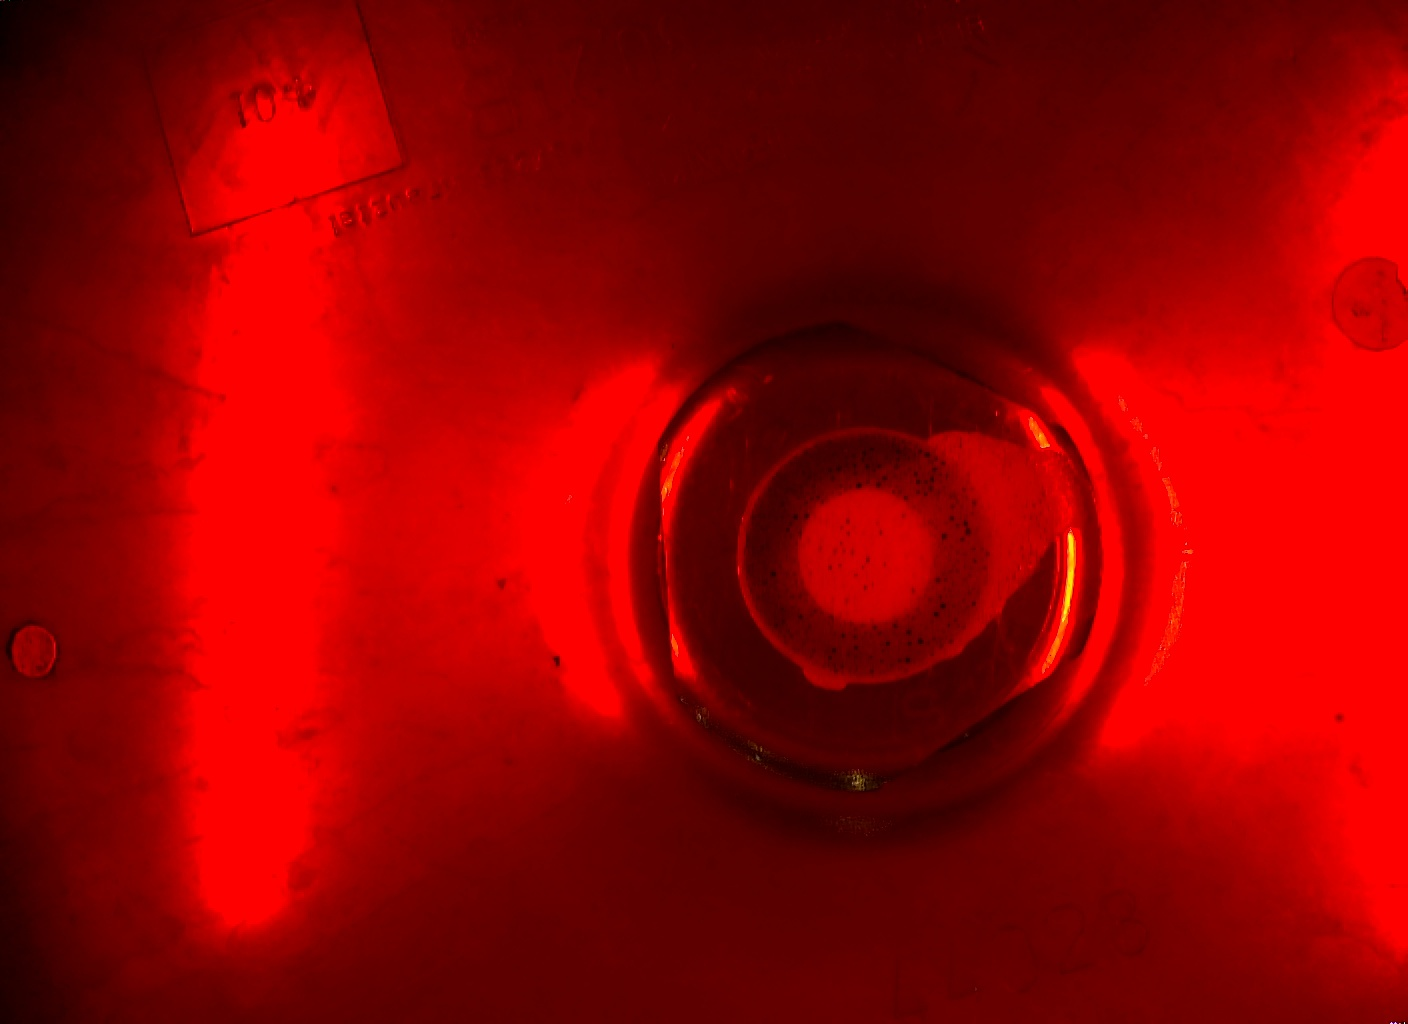pena: (741, 432, 1098, 699)
